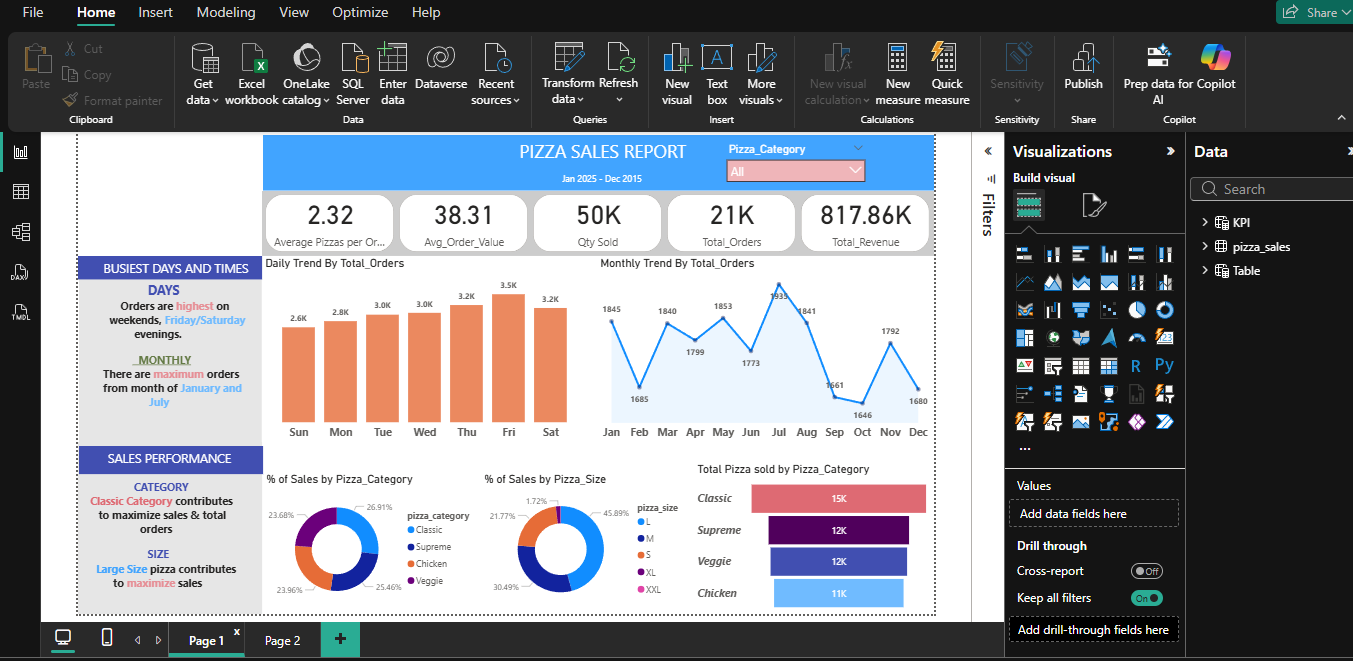

What the dashboard file says about the page in this screenshot:
{"tool":"powerbi","page":{"name":"Page 1","canvas":[1280,720],"ordinal":0},"visuals":[{"type":"columnChart","title":"Daily Trend By Total_Orders","fields":{"Category":["Table.WeekDayName"],"Y":["KPI.Total_Orders"]},"box":[275,185,486.7,283.3],"z":0},{"type":"lineChart","title":"Monthly Trend By Total_Orders","fields":{"Y":["KPI.Total_Orders"],"Category":["Table.MonthName"]},"box":[775,185,501.7,283.3],"z":1000},{"type":"cardVisual","fields":{"Data":["KPI.Average Pizzas per Order","KPI.Avg_Order_Value","KPI.Qty Sold","KPI.Total_Orders","KPI.Total_Revenue"]},"box":[275,88.3,1005,96.7],"z":2000},{"type":"donutChart","title":"% of Sales by Pizza_Category","fields":{"Category":["pizza_sales.pizza_category"],"Y":["KPI.Total_Revenue"]},"box":[276.7,508.3,328.3,211.7],"z":3000},{"type":"donutChart","title":"% of Sales by Pizza_Size","fields":{"Category":["pizza_sales.pizza_size"],"Y":["KPI.Total_Revenue"]},"box":[601.7,508.3,318.3,211.7],"z":4000},{"type":"funnel","title":"Total Pizza sold by Pizza_Category","fields":{"Category":["pizza_sales.pizza_category"],"Y":["KPI.Qty Sold"]},"box":[920,493.3,356.7,226.7],"z":5000},{"type":"textbox","box":[276.7,5,1003.3,83.3],"z":6000},{"type":"slicer","fields":{"Values":["pizza_sales.pizza_category"]},"box":[958.3,10,226.7,71.7],"z":7000},{"type":"textbox","box":[1.7,185,273.3,278.3],"z":8000},{"type":"textbox","box":[0,185,275,35],"z":9000},{"type":"textbox","box":[0,463.3,275,256.7],"z":10000},{"type":"textbox","box":[1.7,468.3,275,41.7],"z":11000}]}

Visuals, with their boxes on the page's 1280x720 design canvas (x1, y1, x2, y2). These are canvas units, not pixel positions in the 1353x661 screenshot, which may show the page scaled, cropped or inside an application window:
"Daily Trend By Total_Orders" columnChart: (275,185,762,468)
"Monthly Trend By Total_Orders" lineChart: (775,185,1277,468)
cardVisual - KPI.Average Pizzas per Order x KPI.Avg_Order_Value: (275,88,1280,185)
"% of Sales by Pizza_Category" donutChart: (277,508,605,720)
"% of Sales by Pizza_Size" donutChart: (602,508,920,720)
"Total Pizza sold by Pizza_Category" funnel: (920,493,1277,720)
textbox: (277,5,1280,88)
slicer - pizza_sales.pizza_category: (958,10,1185,82)
textbox: (2,185,275,463)
textbox: (0,185,275,220)
textbox: (0,463,275,720)
textbox: (2,468,277,510)
